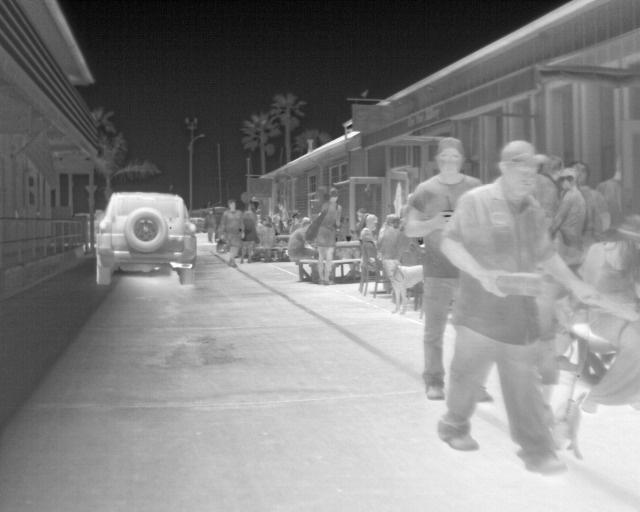bicycle: (95, 187, 199, 286)
empty: (435, 139, 600, 477), (402, 134, 484, 400), (574, 214, 638, 411), (549, 168, 588, 264), (316, 193, 343, 283), (219, 198, 247, 265), (373, 214, 400, 261), (286, 217, 316, 259), (241, 205, 259, 261), (256, 220, 277, 249), (357, 211, 376, 240), (202, 208, 216, 241)
